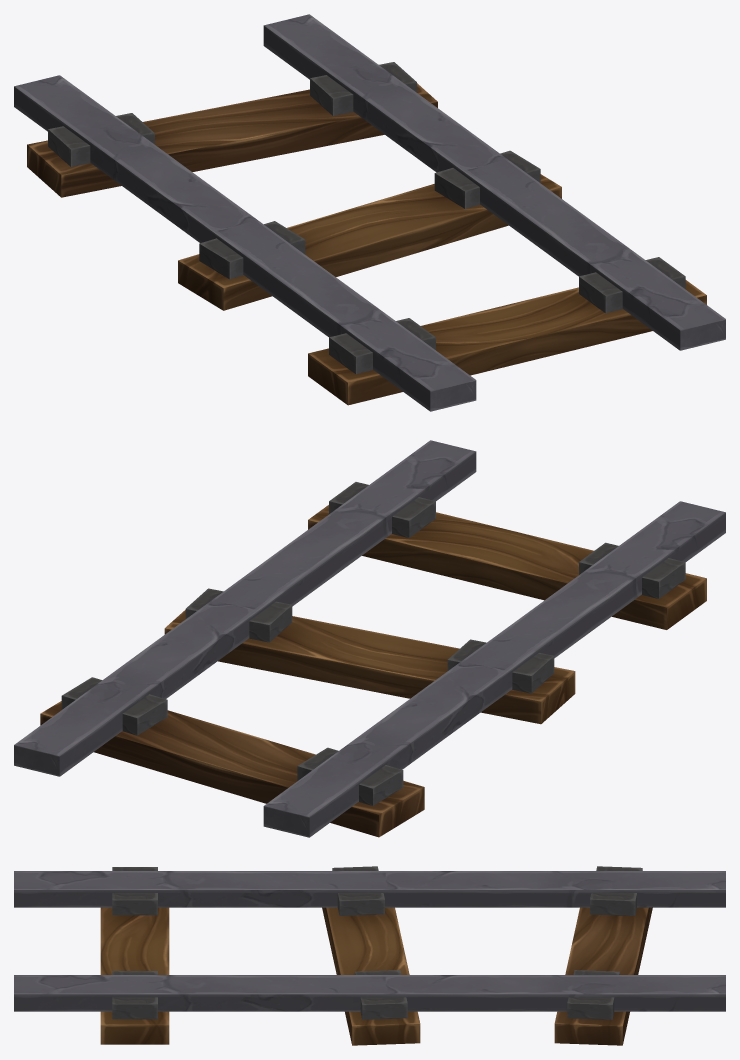
Rendered from Railway_1.FBX.
The picture shows the model from 3 angles, top to bottom: view 1: azimuth 30°, elevation 25°; view 2: azimuth 150°, elevation 25°; view 3: azimuth 270°, elevation 25°; orthographic projection. The views are drawn at different scales.
Visible parts, largest first — view 1: Railway_1; view 2: Railway_1; view 3: Railway_1.
Boxes of the visible parts, <box> form: Railway_1: <box>14,14,725,411</box>; Railway_1: <box>14,440,725,837</box>; Railway_1: <box>14,866,725,1045</box>.
Size of what is drawn, in the model's own units: 252 by 500 by 28.94.
